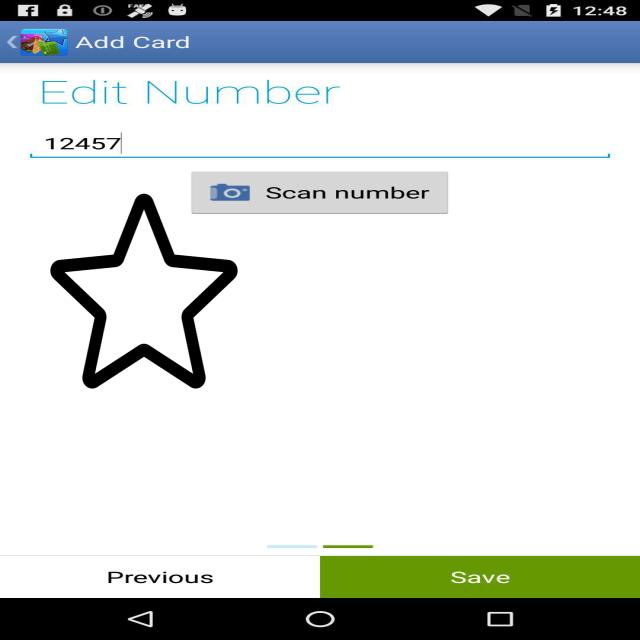forced continuity: (50, 189, 238, 393)
